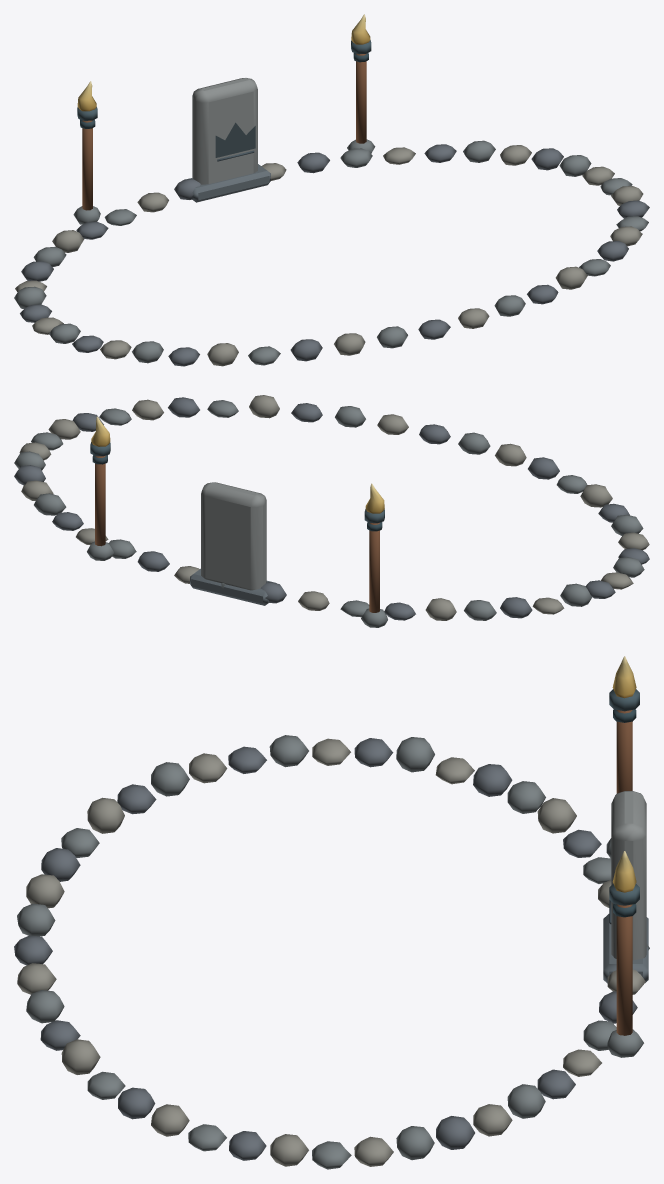
Rendered from guard_arena.glb.
3 views of the same model, one above another, from view 1: azimuth 30°, elevation 25°; view 2: azimuth 150°, elevation 25°; view 3: azimuth 270°, elevation 25° (orthographic). The views are drawn at different scales.
Visible parts, largest first — view 1: Body; view 2: Body; view 3: Body.
Boxes of the visible parts, x1,y1,x2,y2 form: Body: (14, 14, 649, 366); Body: (14, 395, 649, 627); Body: (14, 656, 649, 1169).
Bounding box in the file's own units: 6.89 × 1.56 × 4.35.
